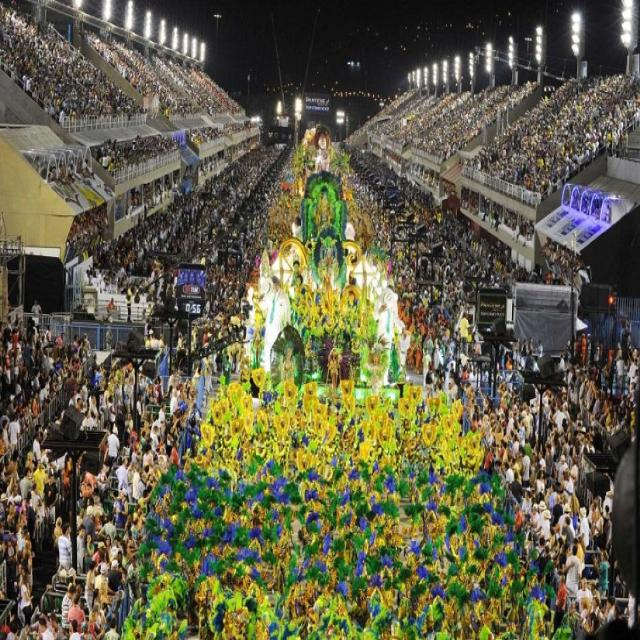body: (0, 0, 639, 639), (564, 545, 584, 604), (530, 509, 552, 562), (94, 562, 120, 605), (42, 472, 59, 536), (554, 541, 572, 598), (553, 572, 569, 630), (83, 558, 97, 624), (12, 508, 30, 556), (22, 497, 38, 550), (67, 592, 87, 634), (61, 582, 75, 640), (57, 522, 73, 572), (19, 574, 34, 626), (24, 538, 37, 598), (556, 502, 576, 541), (115, 455, 131, 503), (574, 576, 594, 614), (28, 481, 44, 528), (98, 511, 118, 548), (576, 505, 591, 552), (596, 549, 610, 598), (106, 425, 121, 468), (33, 458, 47, 502), (459, 311, 472, 357), (605, 593, 618, 639), (82, 532, 96, 574), (518, 447, 532, 489), (520, 486, 533, 530), (7, 413, 21, 453), (510, 470, 524, 510), (0, 418, 13, 461), (532, 469, 546, 506), (553, 404, 568, 438), (19, 466, 33, 502), (626, 356, 639, 393), (560, 515, 575, 547), (544, 442, 554, 489), (221, 353, 233, 392), (421, 346, 432, 388), (556, 453, 570, 486), (615, 354, 626, 396), (76, 524, 85, 574), (32, 429, 42, 474), (48, 612, 64, 639), (67, 369, 78, 408), (2, 343, 12, 385), (578, 373, 586, 422), (37, 616, 53, 640), (131, 462, 141, 500), (104, 618, 121, 640), (591, 390, 601, 427), (426, 364, 436, 400), (528, 402, 538, 438), (515, 419, 527, 449), (107, 393, 116, 432), (157, 402, 167, 436), (21, 368, 29, 410), (90, 494, 105, 516), (594, 505, 604, 538), (504, 461, 515, 489), (593, 338, 601, 376), (168, 388, 178, 418), (570, 456, 580, 485), (536, 449, 547, 475), (15, 333, 22, 372), (520, 409, 530, 436), (110, 534, 123, 554), (535, 338, 545, 364), (506, 411, 515, 438), (556, 350, 567, 372), (31, 298, 44, 315), (126, 288, 132, 324), (580, 332, 586, 368), (586, 330, 592, 366), (80, 376, 88, 401), (44, 323, 52, 347), (549, 481, 557, 505), (94, 364, 103, 384), (561, 393, 568, 417), (33, 368, 41, 388), (512, 434, 520, 453), (108, 296, 116, 310)
